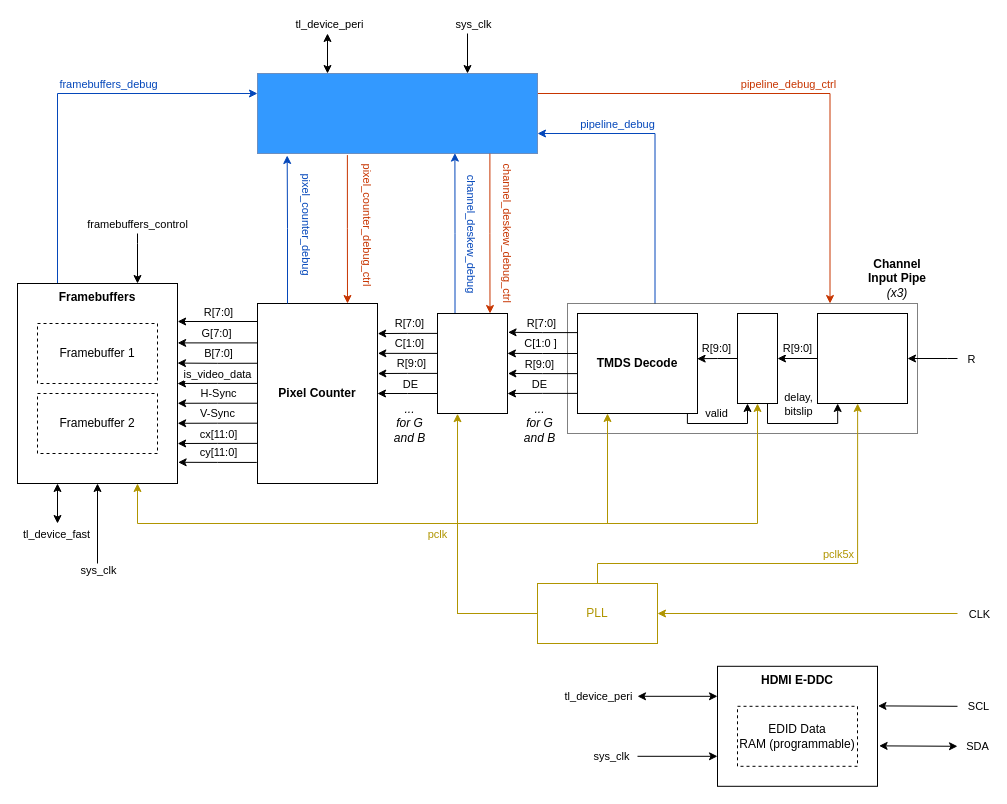
This 1007x804 diagram has some shape labels left out. The shapes that lost their labels are listed below. From the top down, each one's centre as x and y in pixels, then its label:
At [397,113]: "Debug Interface".
At [472,363]: "Channel Deskew".
At [757,358]: "Clock Data Recovery".
At [862,358]: "Deserializer - IODELAY - ISERDES".
